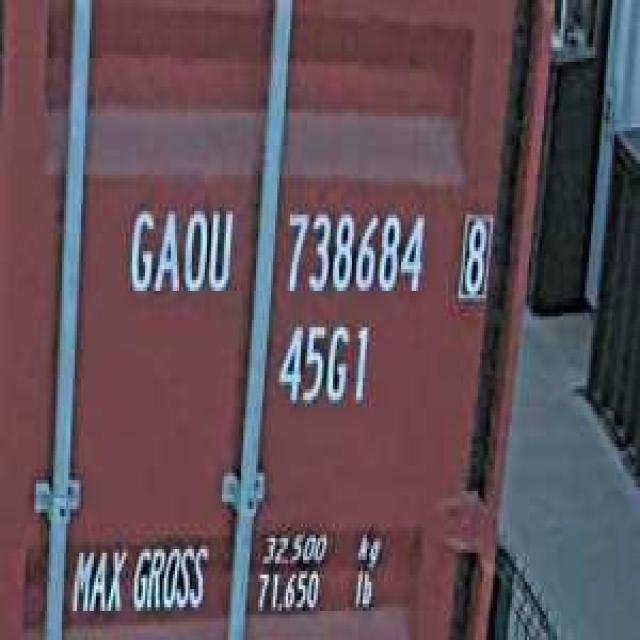dv: (452, 204, 493, 309)
owner: (121, 197, 236, 306)
serial: (279, 200, 429, 305)
size: (273, 312, 373, 414)
